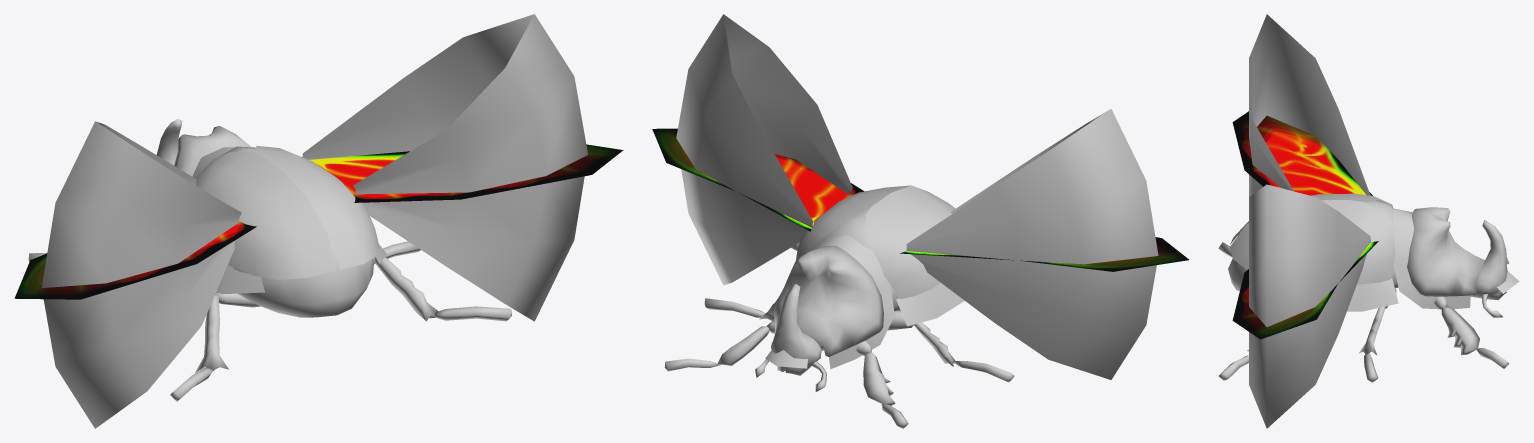
File: Megabeetle_model.fbx
3 renders of one model, left to right at view 1: azimuth 30°, elevation 25°; view 2: azimuth 150°, elevation 25°; view 3: azimuth 270°, elevation 25°, orthographic. The views are drawn at different scales.
Parts seen in each view (by area): view 1: WingR_MB, WingL_MB, Shell_L, Shell_R, Ass, WingR, WingL, Body, LegR3_2, LegL3_2, Fur2, LegR3_3 (+1 smaller); view 2: WingL_MB, WingR_MB, Body, Shell_L, WingR, Fur1, Head, Shell_R, WingL, Fur2, LegL1_2, Ass (+4 smaller); view 3: WingR_MB, WingL_MB, WingL, Body, Shell_R, Fur1, WingR, Head, Fur2, LegR1_2, Ass, Shell_L (+3 smaller).
Part boxes in pixels (left/top/right/bottom): WingR_MB: left=302, top=14, right=587, bottom=321; WingL_MB: left=41, top=121, right=241, bottom=428; Shell_L: left=195, top=151, right=335, bottom=279; Shell_R: left=256, top=145, right=378, bottom=269; Ass: left=219, top=146, right=374, bottom=317; WingR: left=302, top=144, right=623, bottom=202; WingL: left=14, top=221, right=256, bottom=299; Body: left=174, top=126, right=251, bottom=176; LegR3_2: left=374, top=257, right=438, bottom=321; LegL3_2: left=195, top=294, right=228, bottom=372; Fur2: left=216, top=244, right=386, bottom=293; LegR3_3: left=435, top=306, right=511, bottom=321; WingL_MB: left=906, top=109, right=1158, bottom=379; WingR_MB: left=676, top=14, right=852, bottom=285; Body: left=774, top=245, right=883, bottom=356; Shell_L: left=865, top=185, right=955, bottom=298; WingR: left=652, top=128, right=864, bottom=231; Fur1: left=816, top=234, right=894, bottom=369; Head: left=771, top=284, right=821, bottom=375; Shell_R: left=796, top=185, right=910, bottom=260; WingL: left=900, top=237, right=1189, bottom=271; Fur2: left=896, top=282, right=964, bottom=326; LegL1_2: left=863, top=352, right=895, bottom=405; Ass: left=811, top=206, right=900, bottom=311; WingR_MB: left=1249, top=184, right=1370, bottom=428; WingL_MB: left=1249, top=14, right=1370, bottom=196; WingL: left=1232, top=111, right=1372, bottom=195; Body: left=1407, top=207, right=1484, bottom=296; Shell_R: left=1229, top=200, right=1395, bottom=284; Fur1: left=1392, top=208, right=1470, bottom=309; WingR: left=1232, top=241, right=1378, bottom=339; Head: left=1470, top=220, right=1507, bottom=300; Fur2: left=1347, top=278, right=1398, bottom=311; LegR1_2: left=1441, top=306, right=1479, bottom=355; Ass: left=1228, top=200, right=1398, bottom=291; Shell_L: left=1230, top=193, right=1392, bottom=244.
Size of the model in its own units: 1.9 by 1.03 by 0.9196.
